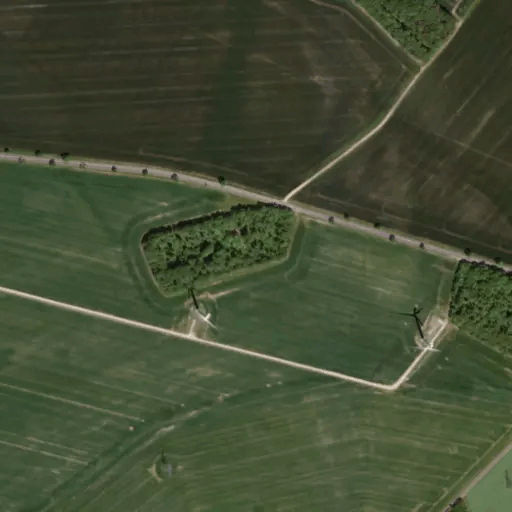wt: (175, 271, 226, 337), (404, 298, 439, 360)
